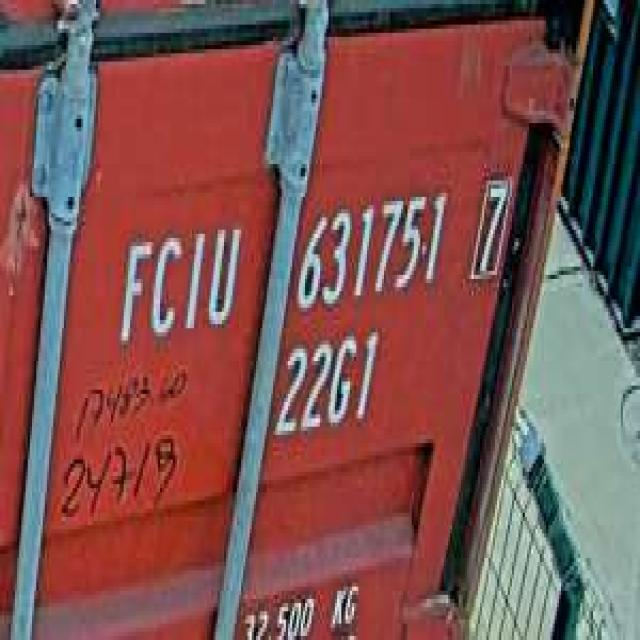dv: (467, 164, 512, 291)
owner: (113, 209, 243, 353)
serial: (292, 180, 450, 316)
size: (273, 324, 384, 447)
